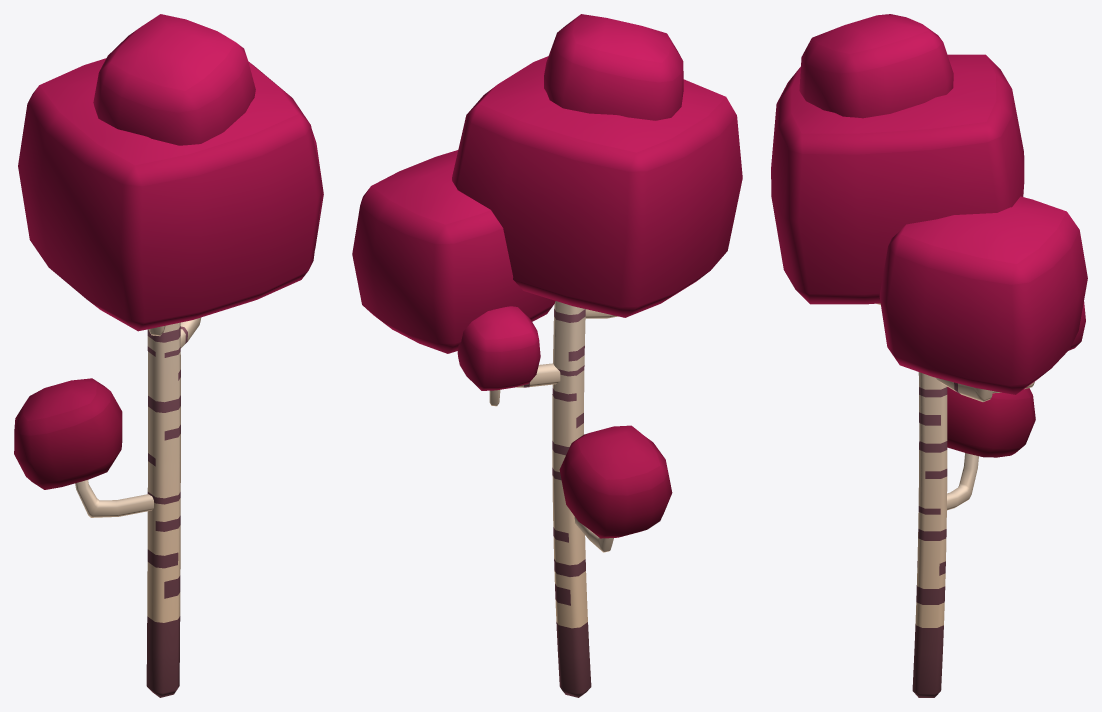
File: Birch_L.fbx
3 renders of one model, left to right at view 1: azimuth 30°, elevation 25°; view 2: azimuth 150°, elevation 25°; view 3: azimuth 270°, elevation 25°, orthographic. The views are drawn at different scales.
Parts seen in each view (by area): view 1: birch_tree_SC_free; view 2: birch_tree_SC_free; view 3: birch_tree_SC_free.
Part boxes in pixels (bbox=[...]): birch_tree_SC_free: bbox=[14, 14, 323, 697]; birch_tree_SC_free: bbox=[352, 14, 742, 697]; birch_tree_SC_free: bbox=[771, 14, 1087, 697].
Size of the model in its own units: 526 by 1122 by 483.
